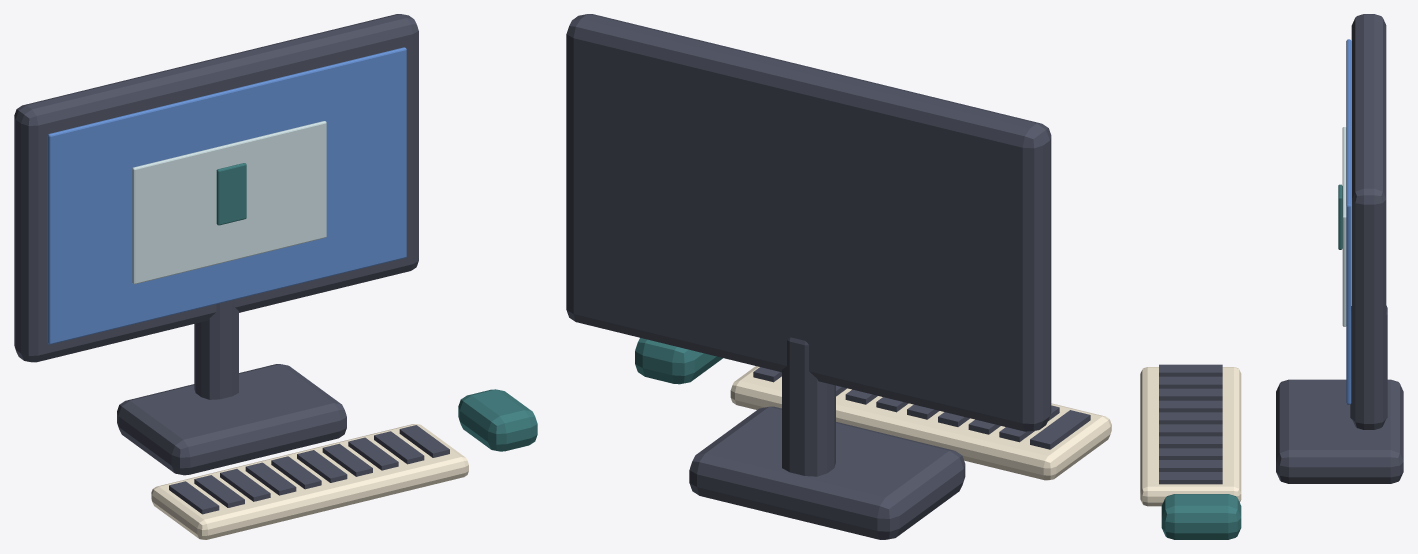
File: bedroom_computer.glb
3 views of the same model, side by side, from view 1: azimuth 30°, elevation 25°; view 2: azimuth 150°, elevation 25°; view 3: azimuth 270°, elevation 25° (orthographic). The views are drawn at different scales.
Visible parts, largest first — view 1: bedroom_computer_Mesh; view 2: bedroom_computer_Mesh; view 3: bedroom_computer_Mesh.
Boxes of the visible parts, box(x1,y1,x2,y2) form: bedroom_computer_Mesh: box(14, 14, 537, 539); bedroom_computer_Mesh: box(566, 14, 1111, 539); bedroom_computer_Mesh: box(1140, 14, 1403, 539).
Size of the model in its own units: 0.86 by 0.72 by 0.495.
